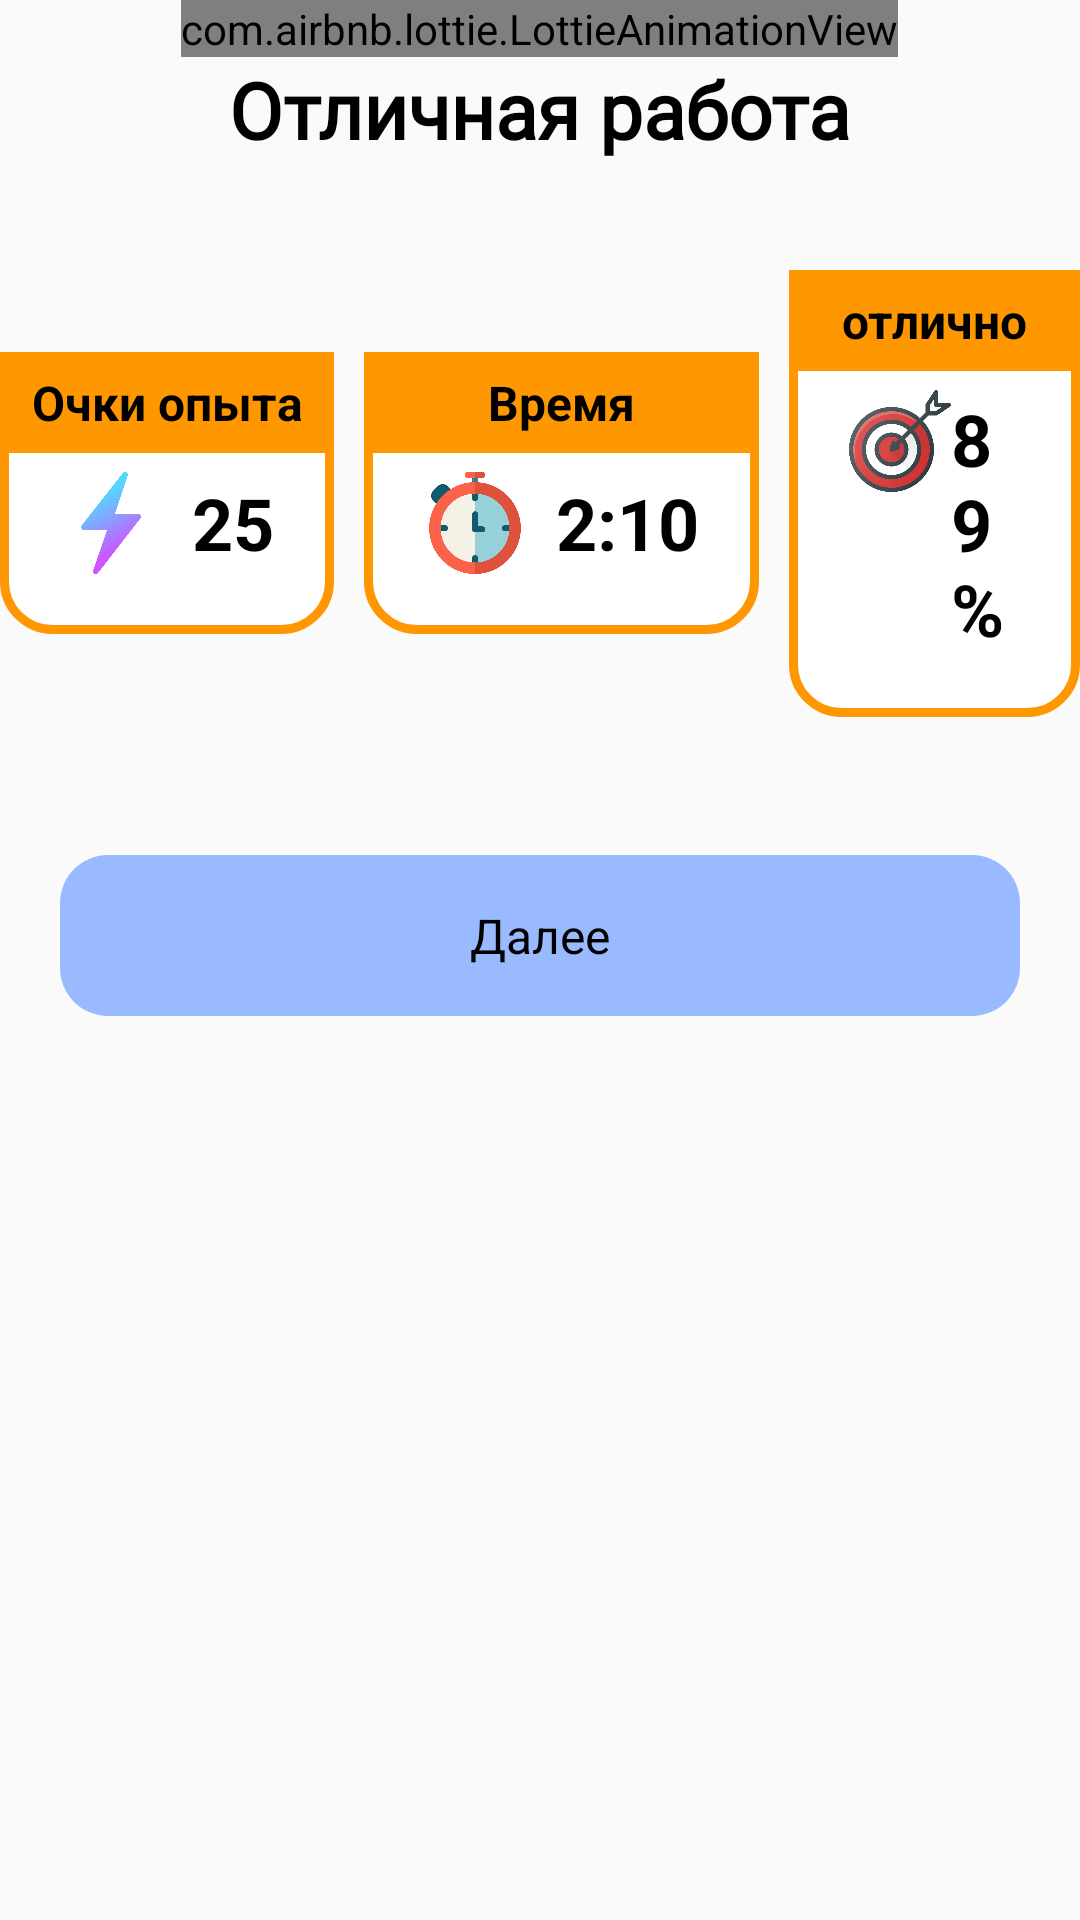

Icon bounding boxes for this 1080*1920 phone screenshot, format (x1,y1,x2,y2):
lightning: (81,472,141,574)
shot: (849,390,951,492)
time: (429,472,521,574)
